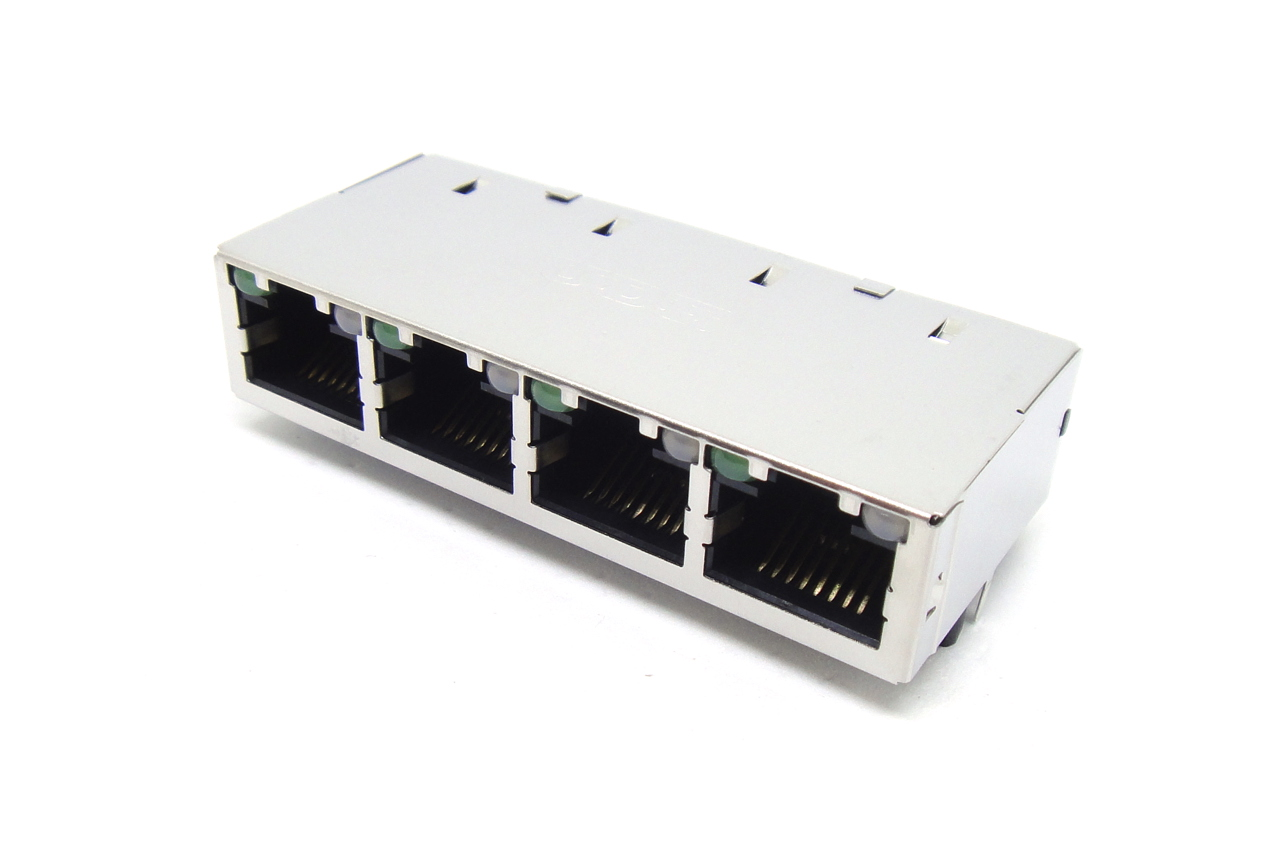lan: (706, 442, 909, 666), (520, 358, 697, 579), (220, 255, 370, 443)
